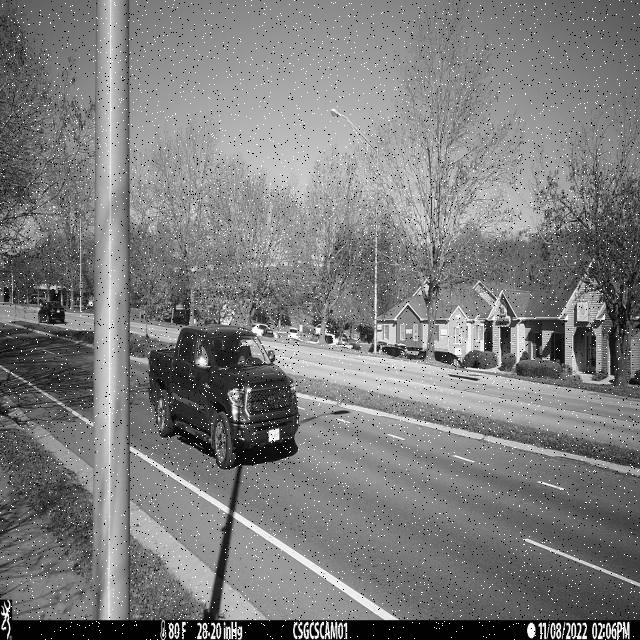Pickup: (149, 323, 300, 470)
